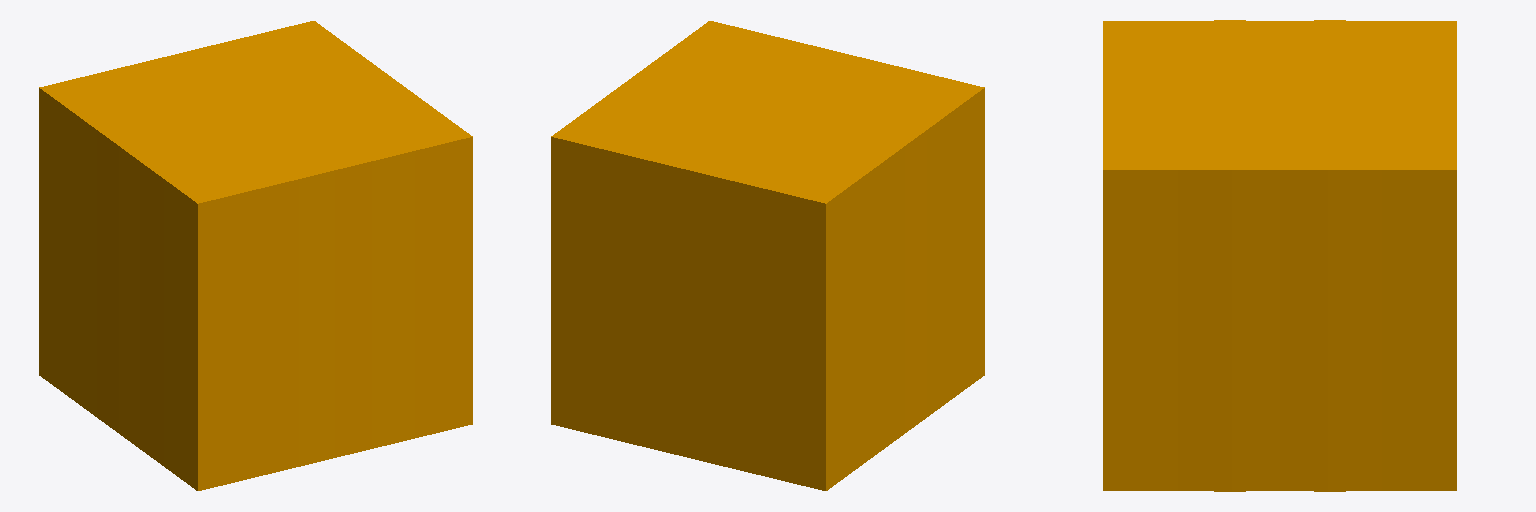
robot.urdf — cube:
<?xml version="1.0" ?>
<robot name="cube" version="1.0">
  <link name="base">
    <inertial>
      <origin xyz="0 0 0" rpy="0 0 0"/>
      <mass value="0.07138865123893148"/>
      <inertia ixx="1.7642133507122117e-05" ixy="2.757268708510092e-22" ixz="8.542147705934975e-23" iyy="1.7642133507122117e-05" iyz="1.660566930893794e-22" izz="1.7648295631093198e-05"/>
    </inertial>
    <visual>
      <origin xyz="0 0 0" rpy="0 0 0"/>
      <geometry>
        <mesh filename="meshes/cube.stl" scale="0.006 0.006 0.006"/>
      </geometry>
    </visual>
    <collision>
      <origin xyz="0 0 0" rpy="0 0 0"/>
      <geometry>
        <mesh filename="meshes/cube.stl" scale="0.006 0.006 0.006"/>
      </geometry>
    </collision>
  </link>
</robot>

--- What the picture shows (computed from the rendered views, not written in the file) ---
The picture shows the robot from 3 angles, left to right: view 1: azimuth 30°, elevation 25°; view 2: azimuth 150°, elevation 25°; view 3: azimuth 270°, elevation 25°; orthographic projection.
Robot: cube — 1 links, 0 joints (none); root link base; default pose: all joints at 0.
Visible links, largest first — view 1: base; view 2: base; view 3: base.
Boxes of the visible links, left/top/right/bottom form: base: left=39, top=21, right=472, bottom=490; base: left=551, top=21, right=984, bottom=490; base: left=1103, top=20, right=1456, bottom=491.
Size in the robot's own frame: 0.033 by 0.033 by 0.033 metres.
Meshes: 1 distinct files referenced, 1 mesh visuals loaded (1 binary STL).
